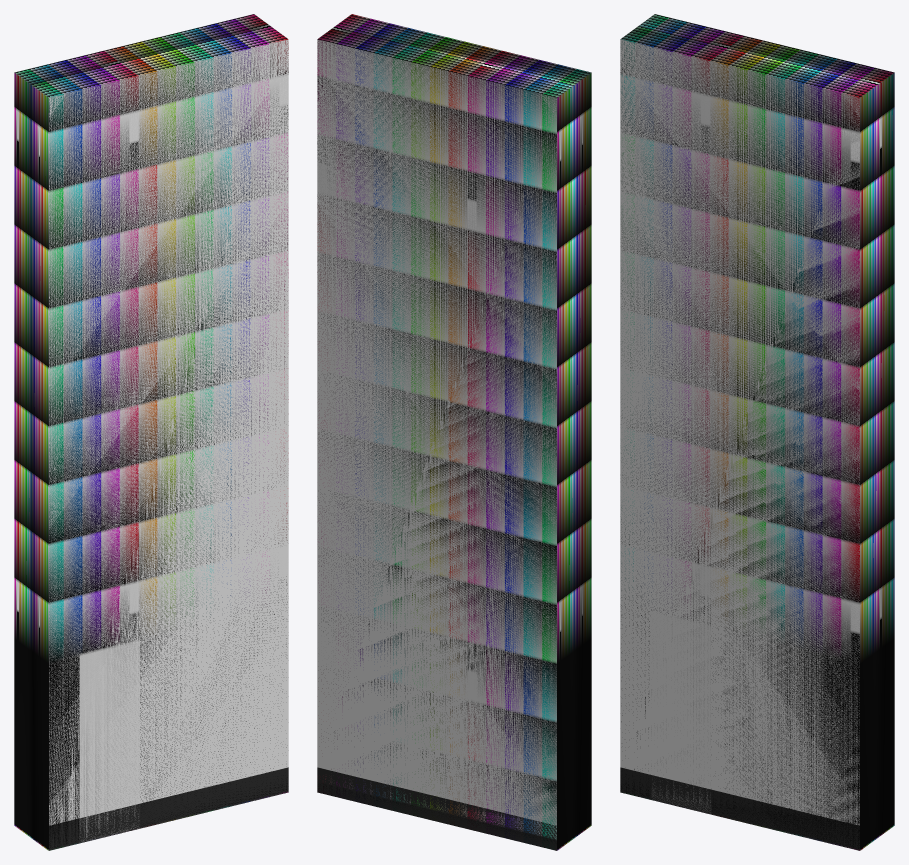
The model's file is interiorWall_line_1_white.fbx.
3 renders of one model, left to right at view 1: azimuth 30°, elevation 25°; view 2: azimuth 150°, elevation 25°; view 3: azimuth 330°, elevation 25°, orthographic.
Visible parts, largest first — view 1: interiorWall_line_1_white, interiorWall_line_1_trigger_white; view 2: interiorWall_line_1_white, interiorWall_line_1_trigger_white; view 3: interiorWall_line_1_white, interiorWall_line_1_trigger_white.
Part boxes in pixels (x1,y1,x2,y2): interiorWall_line_1_white: [49, 39, 288, 850]; interiorWall_line_1_trigger_white: [14, 14, 288, 850]; interiorWall_line_1_white: [317, 39, 556, 850]; interiorWall_line_1_trigger_white: [317, 14, 591, 850]; interiorWall_line_1_white: [620, 39, 859, 850]; interiorWall_line_1_trigger_white: [620, 14, 894, 850].
Size of what is drawn, in the model's own units: 100 by 300 by 25.
